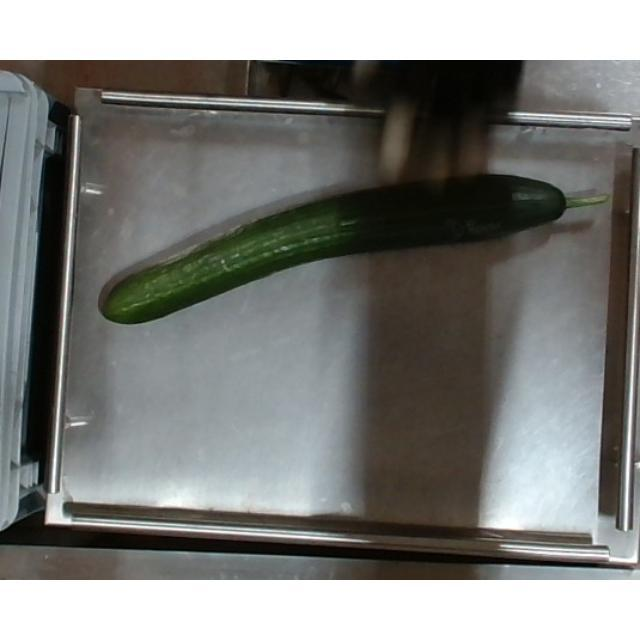cucumber: (97, 171, 608, 329)
